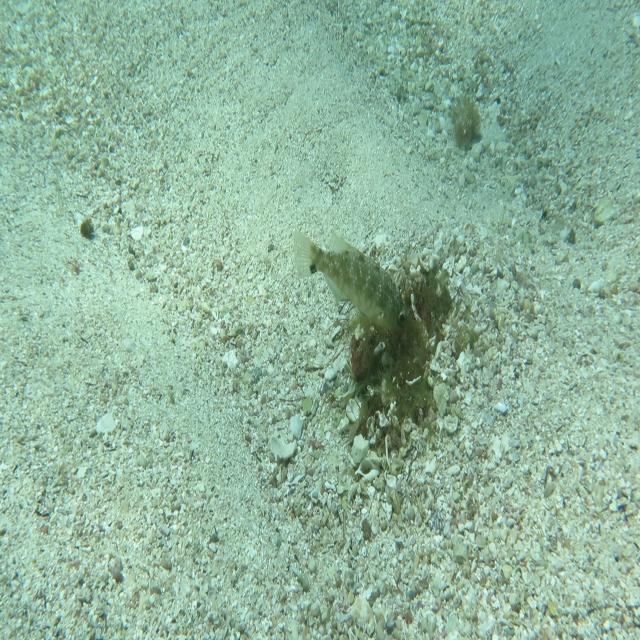NIP_CORE: (291, 218, 411, 340)
nest: (344, 256, 459, 457)
vegetation: (451, 93, 484, 152), (78, 214, 97, 246)
